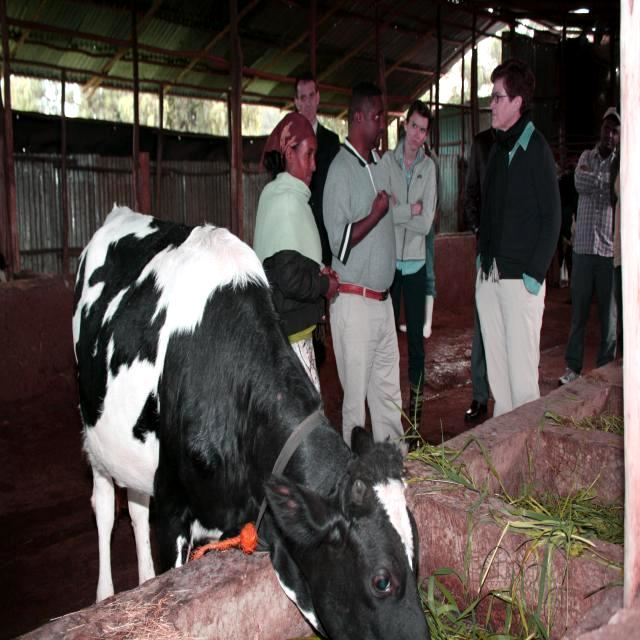COW: (72, 206, 429, 639)
